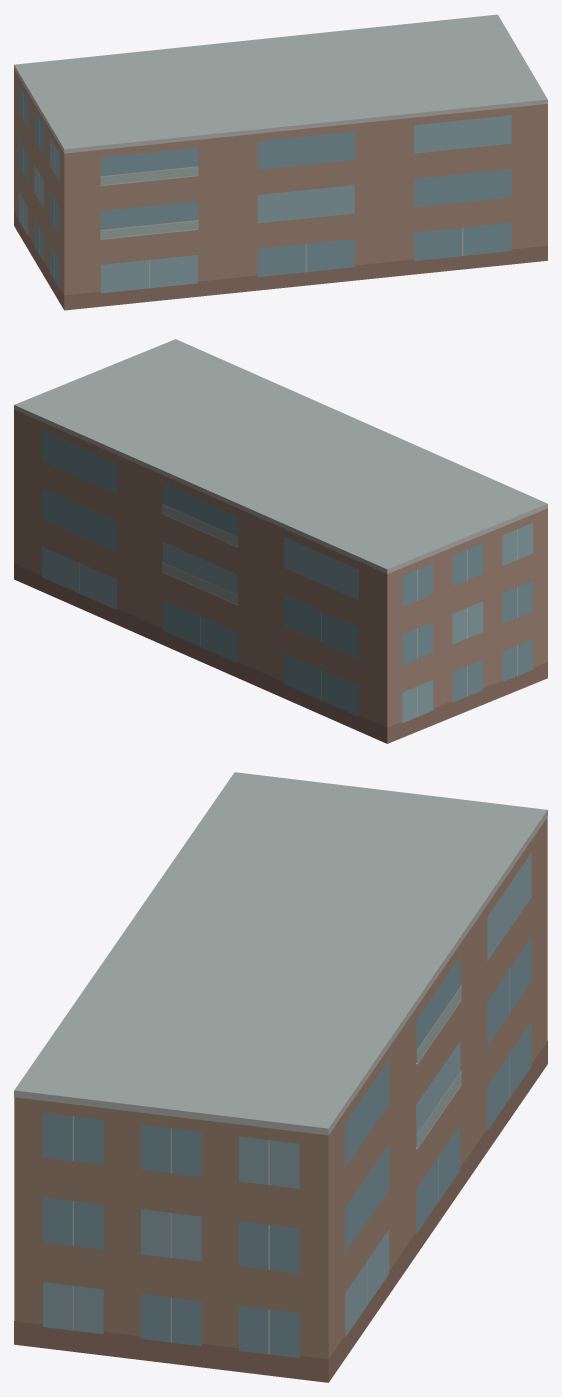
File: survey-upis-32983531.glb
3 renders of one model, top to bottom at view 1: azimuth 30°, elevation 25°; view 2: azimuth 150°, elevation 25°; view 3: azimuth 270°, elevation 25°, orthographic. The views are drawn at different scales.
Visible parts, largest first — view 1: survey-upis-32983531.tmp; view 2: survey-upis-32983531.tmp; view 3: survey-upis-32983531.tmp.
Boxes of the visible parts, <box> form: survey-upis-32983531.tmp: <box>14,14,547,310</box>; survey-upis-32983531.tmp: <box>14,339,547,743</box>; survey-upis-32983531.tmp: <box>14,772,547,1382</box>.
Size of the model in its own units: 27.54 by 9.15 by 17.42.
